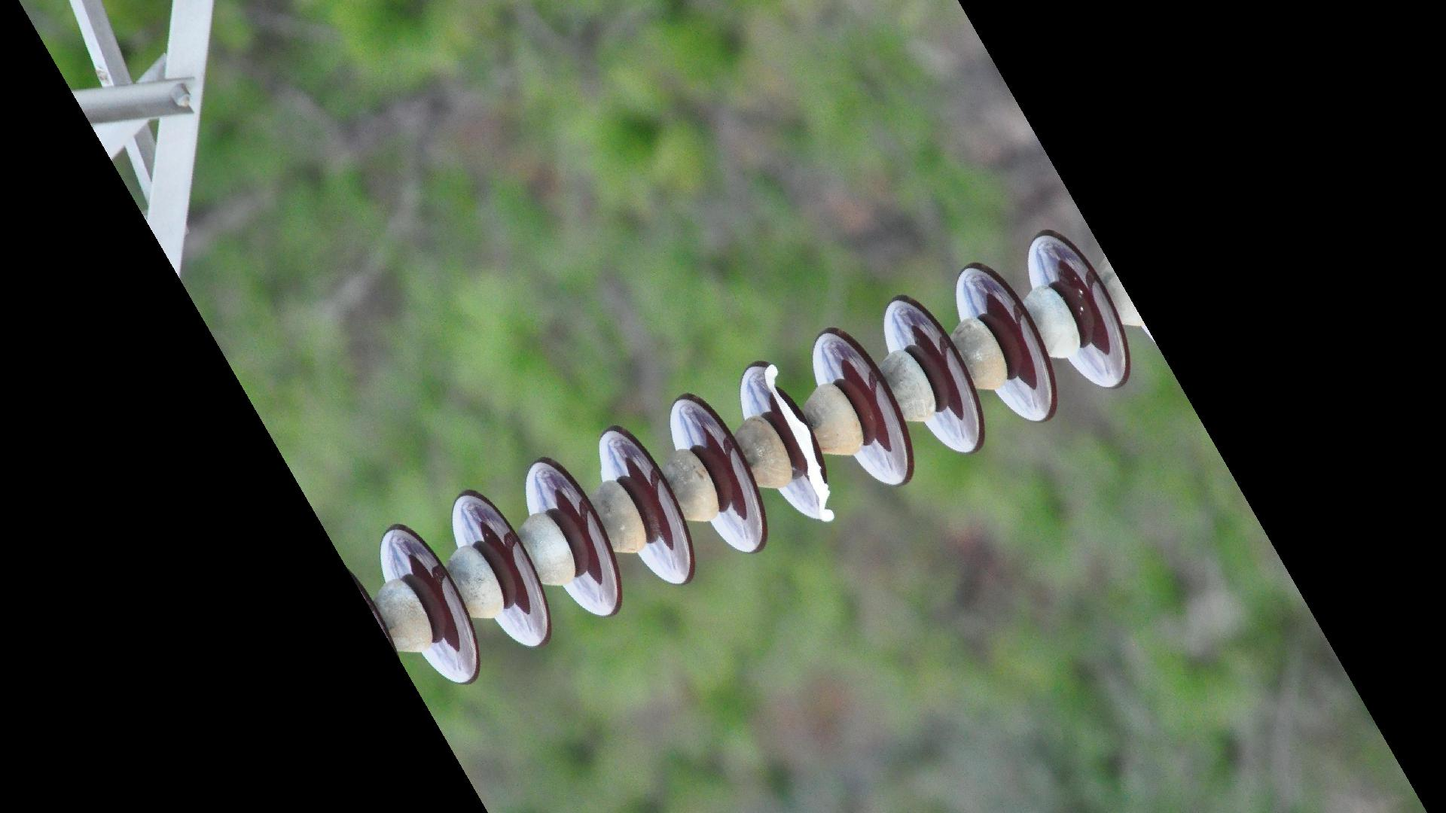insulator: (374, 224, 1134, 692)
insulator_breakage: (758, 359, 843, 528)
